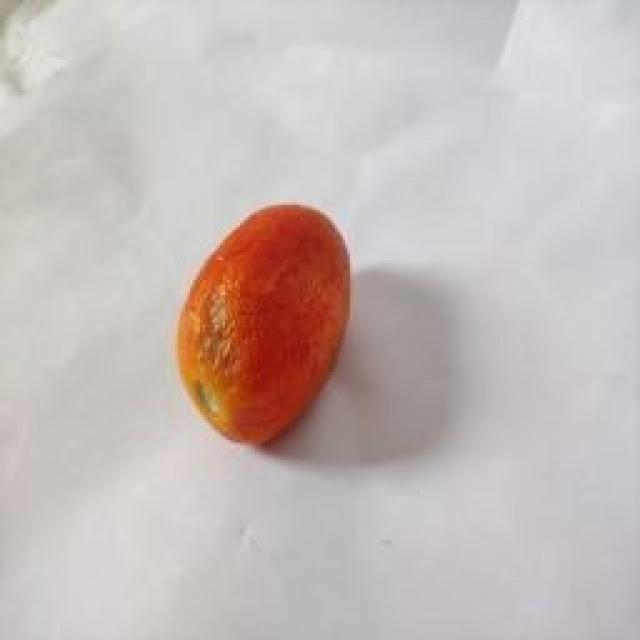overripe: (175, 198, 357, 445)
